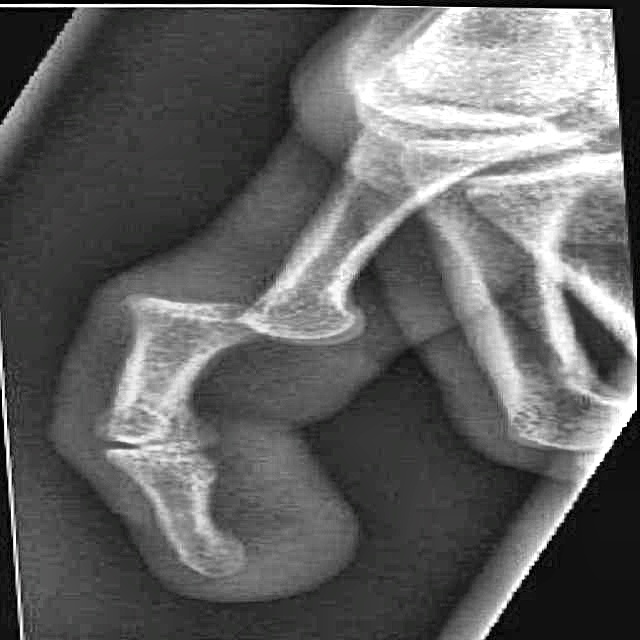Transverse: (72, 261, 381, 364)
